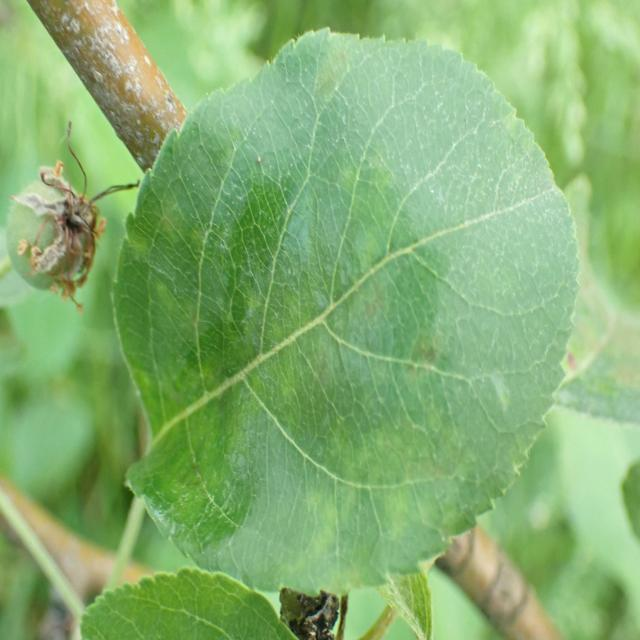scab: (130, 19, 544, 602)
